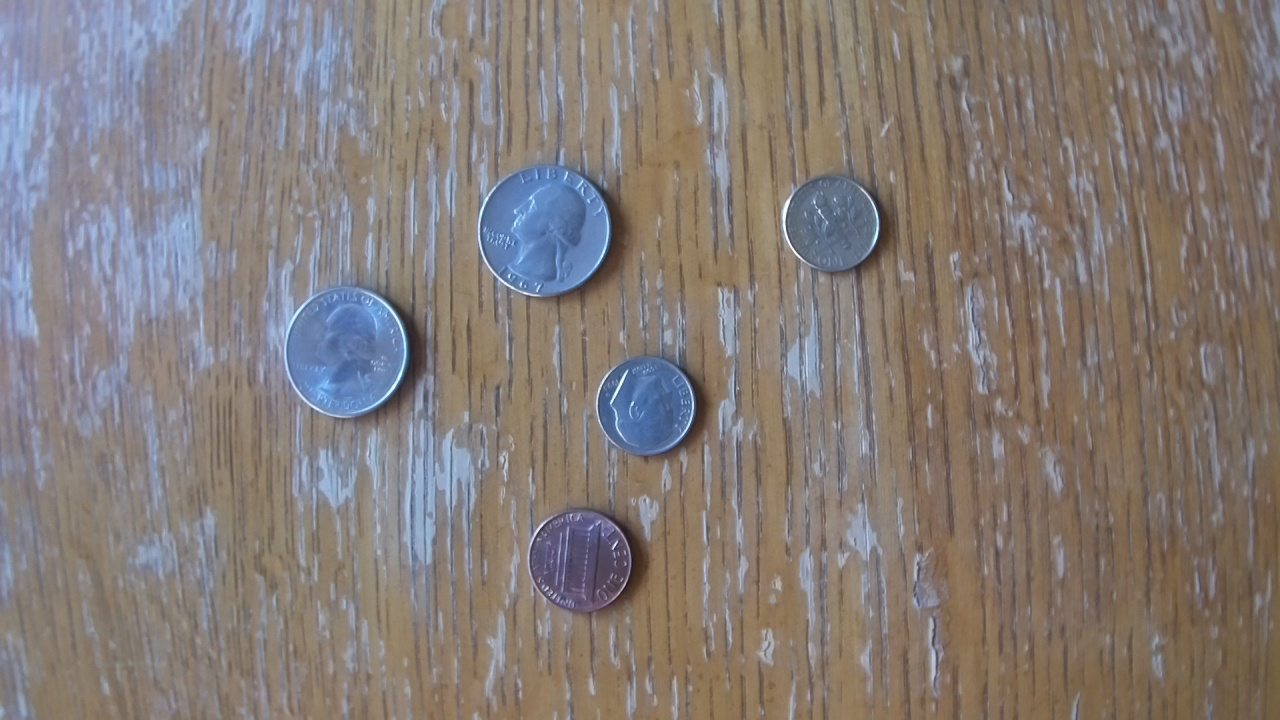dime: (595, 354, 697, 454), (784, 172, 883, 273)
penny: (527, 506, 637, 613)
quarter: (477, 163, 613, 299), (284, 286, 409, 421)
